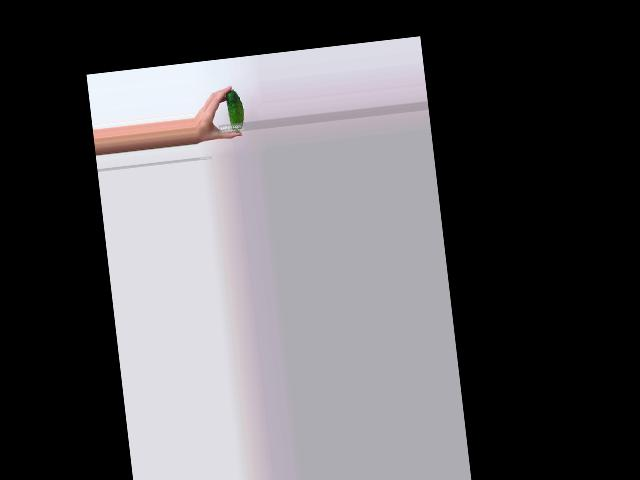cucumber: (225, 89, 246, 133)
